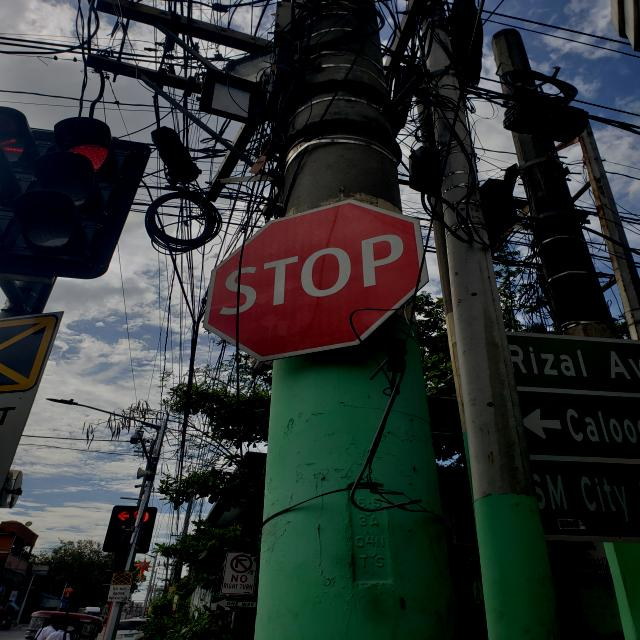stop-sign: (203, 198, 430, 362)
